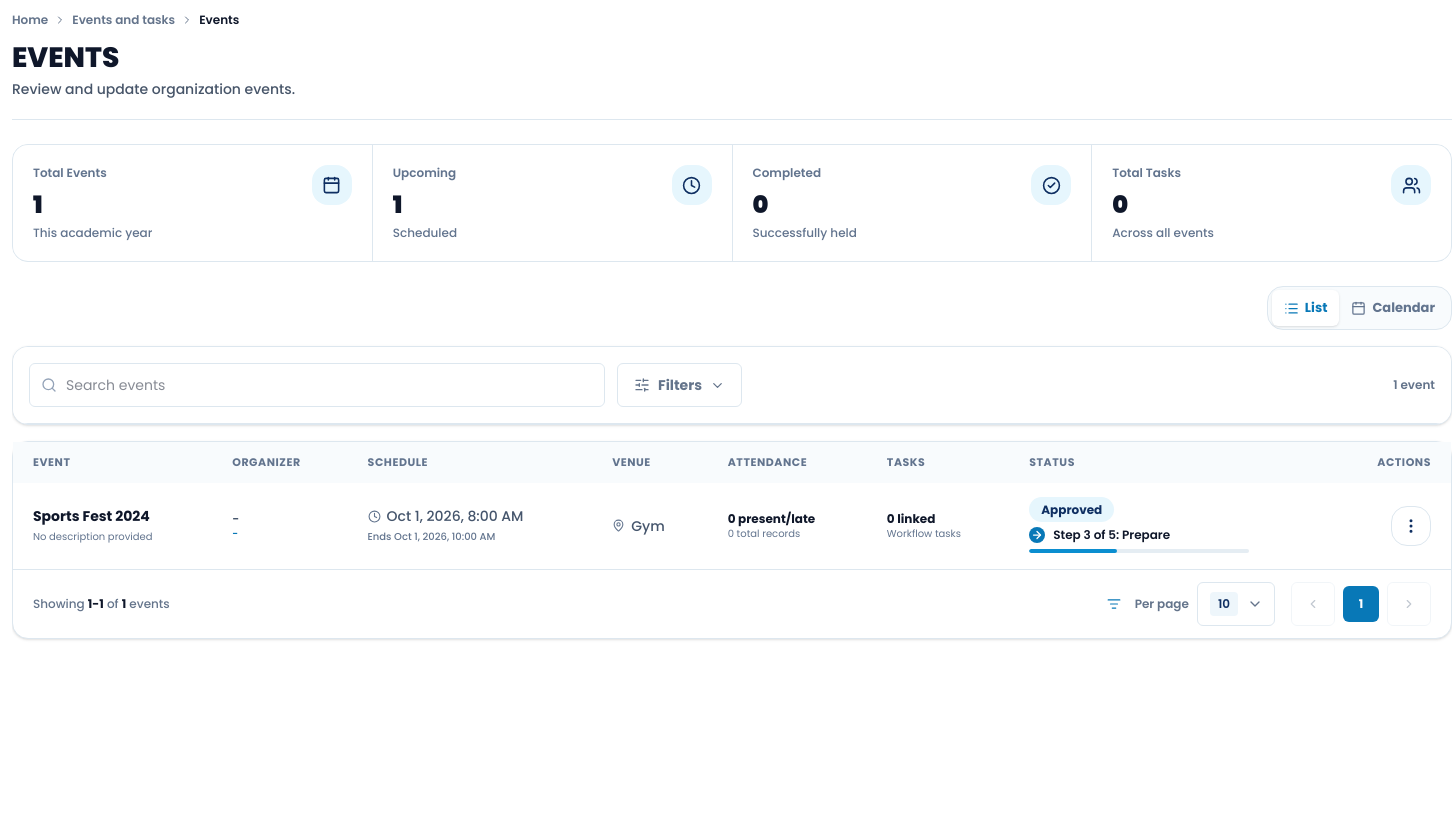
Test: EventsPage delete › does not offer delete to officers
The width and height of the screenshot is (1452, 822).
Click the button named "Actions for Sports Fest 2024" at (1411, 526), box [1391,506,1431,546]
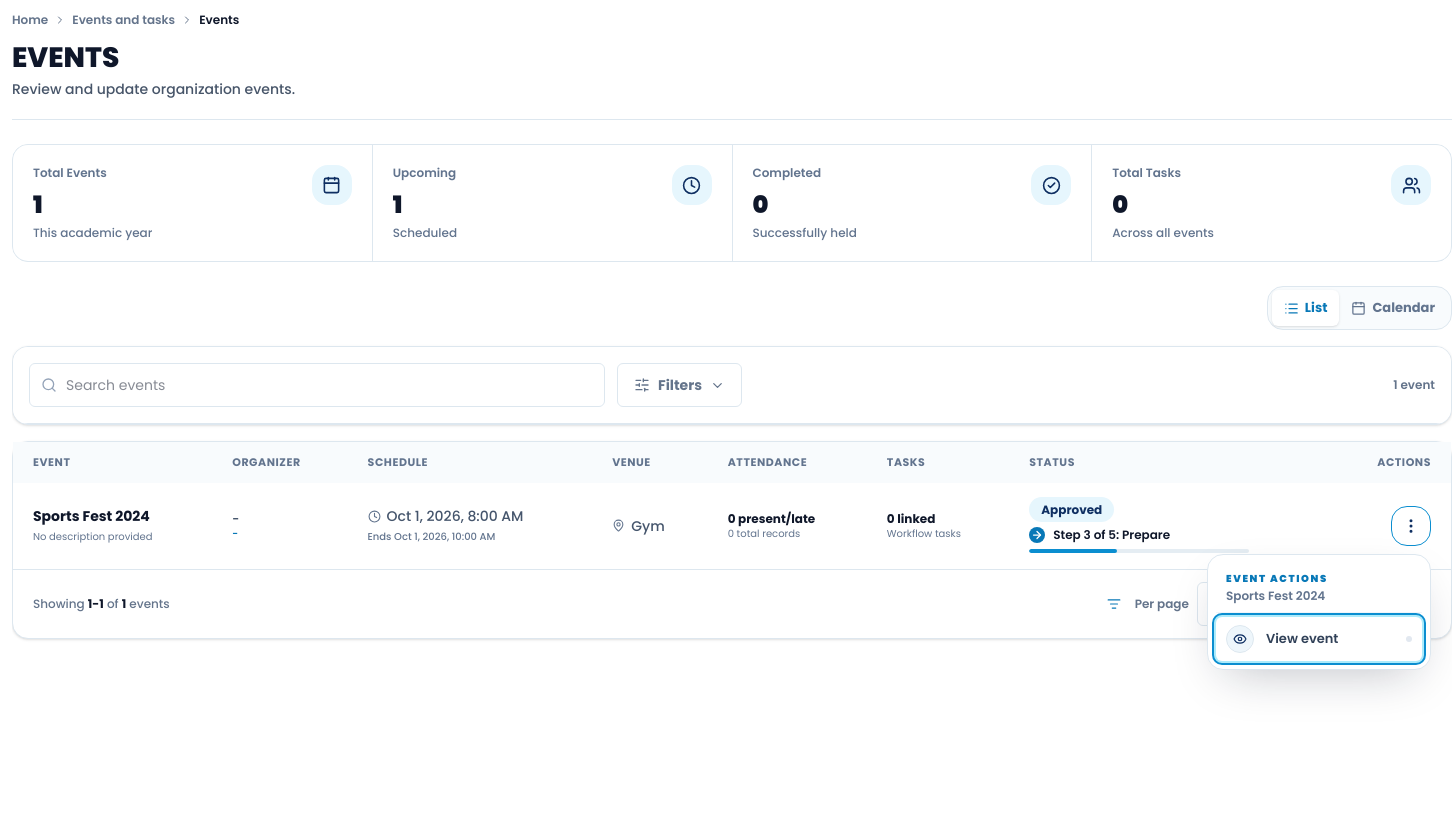
Check: the menu item "View event" is shown, box [1216,616,1422,660]
